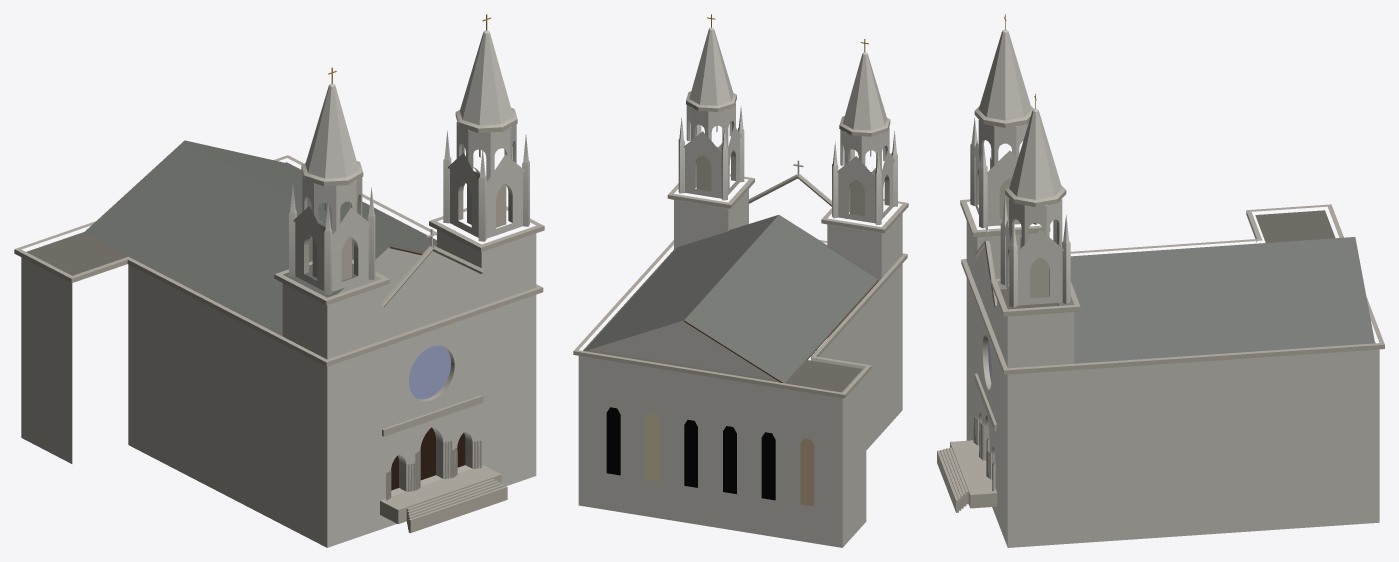
File: ssPeterPaul_lod1.glb
3 renders of one model, left to right at view 1: azimuth 30°, elevation 25°; view 2: azimuth 150°, elevation 25°; view 3: azimuth 270°, elevation 25°, orthographic. The views are drawn at different scales.
Visible parts, largest first — view 1: L1_stucco, L1_metal, L1_roof, L1_win, L1_wood; view 2: L1_stucco, L1_metal, L1_win, L1_roof; view 3: L1_stucco, L1_metal, L1_roof.
Boxes of the visible parts, x1,y1,x2,y2 form: L1_stucco: (14,30,544,547); L1_metal: (84,140,436,335); L1_roof: (26,162,436,336); L1_win: (409,345,450,399); L1_wood: (389,246,465,490); L1_stucco: (573,27,908,547); L1_metal: (584,215,877,383); L1_win: (606,407,814,506); L1_roof: (583,247,878,392); L1_stucco: (937,29,1384,547); L1_metal: (1058,237,1374,363); L1_roof: (1000,210,1375,345).
Size of the model in its own units: 50.3 by 61.7 by 57.15.
